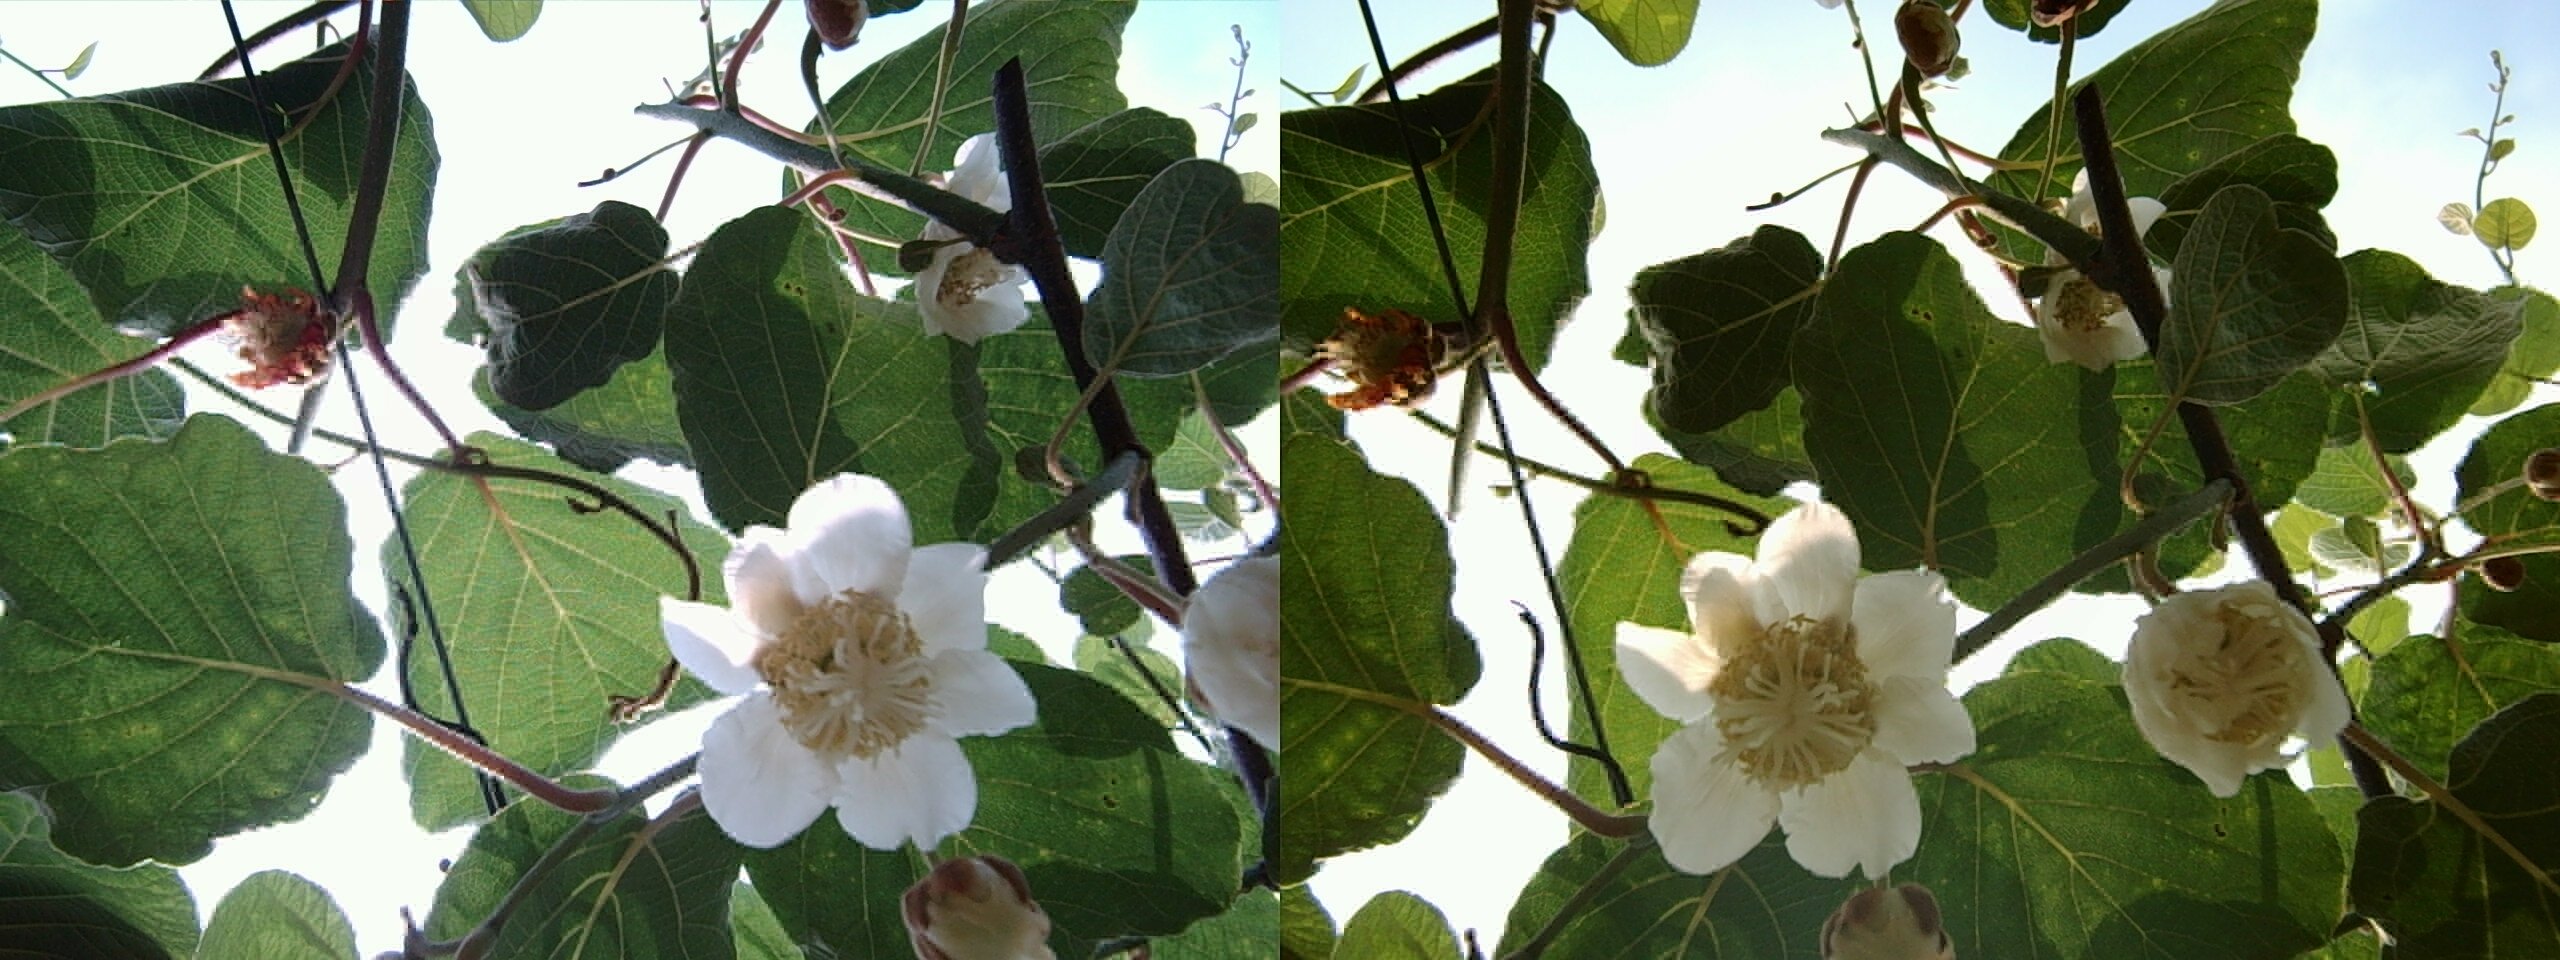flower: (1628, 506, 1954, 865), (697, 490, 1002, 847), (2124, 570, 2336, 793)
